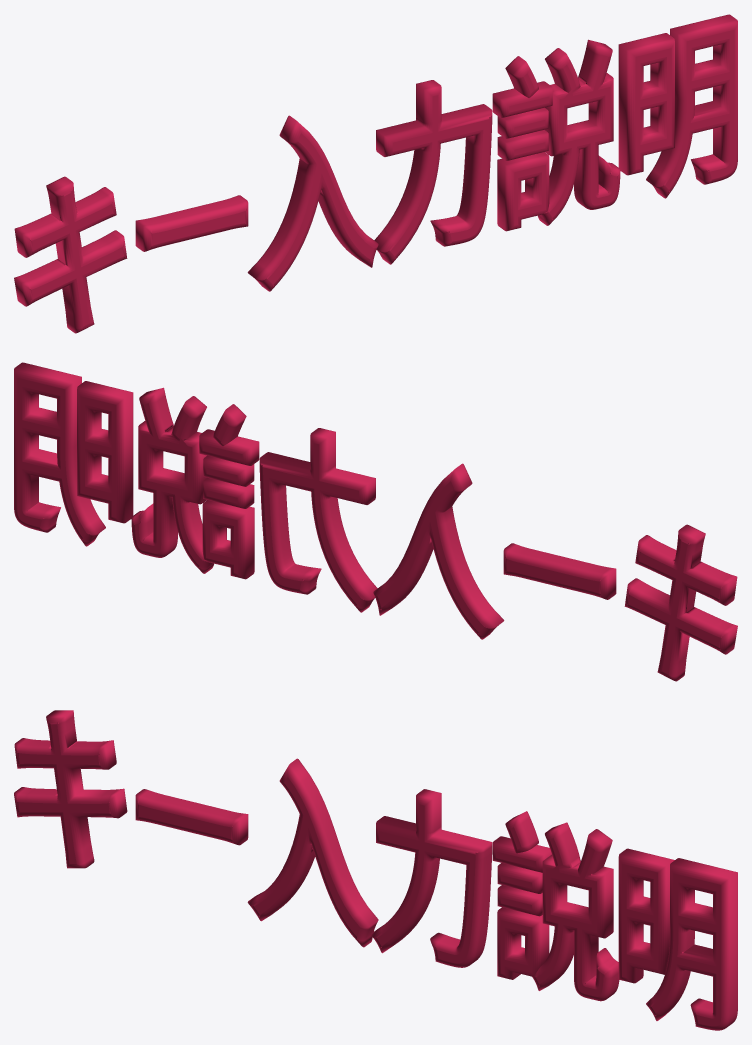
The model's file is keysText.obj.
The picture shows the model from 3 angles, top to bottom: view 1: azimuth 30°, elevation 25°; view 2: azimuth 150°, elevation 25°; view 3: azimuth 330°, elevation 25°; orthographic projection.
Parts seen in each view (by area): view 1: テキスト; view 2: テキスト; view 3: テキスト.
Part boxes in pixels (<box>): テキスト: <box>14,14,737,333</box>; テキスト: <box>14,362,737,681</box>; テキスト: <box>14,710,737,1030</box>.
Size of the model in its own units: 3.69 by 0.8427 by 0.12.
